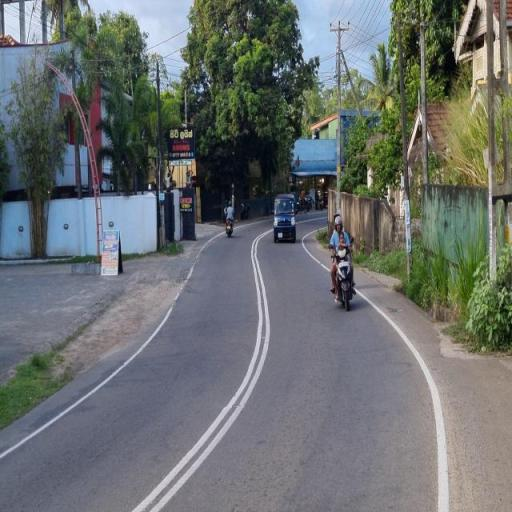double_white_line: (131, 227, 273, 512)
